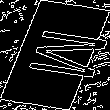M_E: (5, 27, 105, 83)
